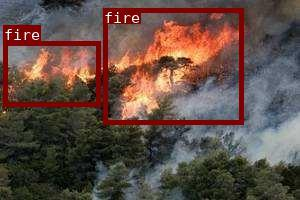fire: (103, 8, 243, 124), (3, 41, 99, 105)
